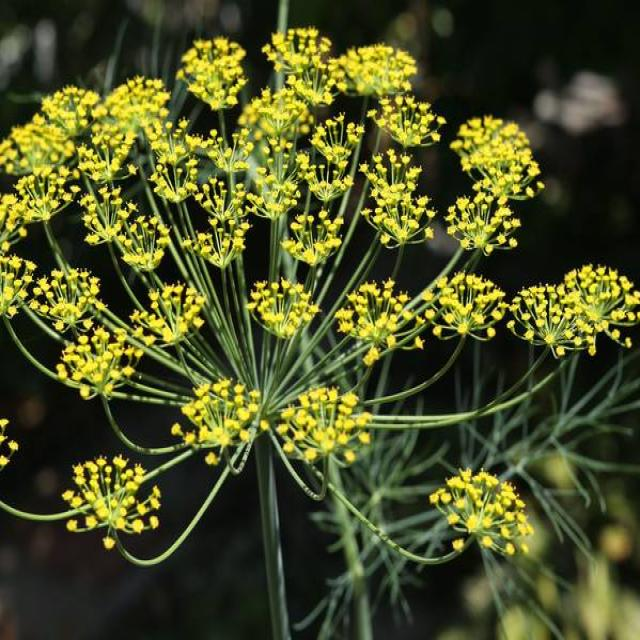Dill: (0, 23, 639, 569)
